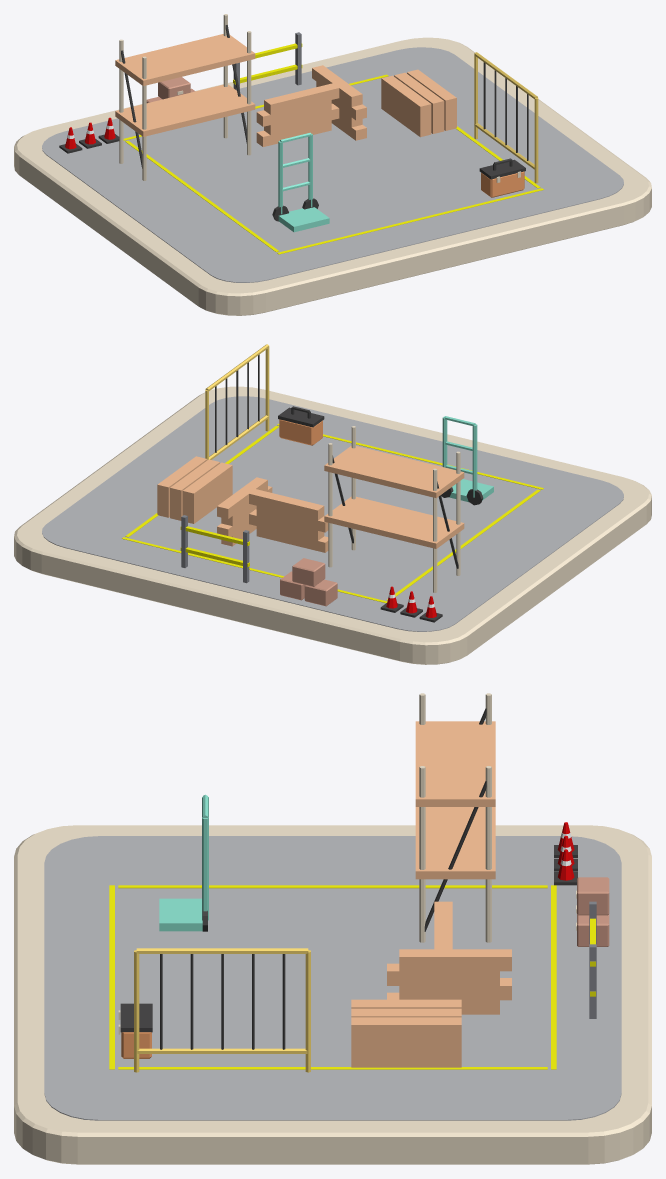
Rendered from room.fbx.
3 views of the same model, one above another, from view 1: azimuth 30°, elevation 25°; view 2: azimuth 150°, elevation 25°; view 3: azimuth 270°, elevation 25° (orthographic). The views are drawn at different scales.
Parts seen in each view (by area): view 1: COM-02 Floor Surface, COM-01 Rounded Base Direct, Platform.001, Platform, Timber.006, Loading plate, Box, Work zone end, Timber.007, Timber.008, Work zone stripe, Upright.002 (+6 smaller); view 2: COM-02 Floor Surface, COM-01 Rounded Base Direct, Platform.001, Platform, Timber.006, Box, Stacked case.002, Stacked case, Timber.007, Timber.008, Work zone stripe, Work zone end.001 (+9 smaller); view 3: COM-02 Floor Surface, COM-01 Rounded Base Direct, Platform.001, Platform, Timber.008, Timber.005, Work zone stripe, Timber.002, Loading plate, Work zone stripe.001, Stacked case.002, Timber.006 (+15 smaller).
Boxes of the visible parts, box(x1,y1,x2,y2) form: COM-02 Floor Surface: box(42, 47, 623, 282); COM-01 Rounded Base Direct: box(14, 37, 651, 315); Platform.001: box(115, 34, 255, 85); Platform: box(115, 84, 255, 136); Timber.006: box(381, 75, 431, 116); Loading plate: box(278, 207, 329, 232); Box: box(481, 171, 524, 197); Work zone end: box(277, 188, 543, 254); Timber.007: box(394, 72, 444, 113); Timber.008: box(407, 69, 456, 110); Work zone stripe: box(125, 140, 279, 252); Upright.002: box(247, 31, 251, 155); COM-02 Floor Surface: box(42, 396, 623, 631); COM-01 Rounded Base Direct: box(14, 386, 651, 664); Platform.001: box(324, 446, 464, 498); Platform: box(324, 496, 464, 548); Timber.006: box(182, 462, 232, 503); Box: box(279, 419, 322, 445); Stacked case.002: box(292, 558, 325, 586); Stacked case: box(304, 579, 337, 606); Timber.007: box(170, 459, 219, 500); Timber.008: box(157, 456, 207, 497); Work zone stripe: box(387, 489, 540, 600); Work zone end.001: box(122, 537, 387, 603); COM-02 Floor Surface: box(44, 836, 621, 1120); COM-01 Rounded Base Direct: box(14, 825, 651, 1164); Platform.001: box(415, 721, 495, 806); Platform: box(415, 807, 495, 879); Timber.008: box(351, 1017, 461, 1039); Timber.005: box(351, 1039, 461, 1053); Work zone stripe: box(118, 885, 547, 888); Timber.002: box(351, 1054, 461, 1067); Loading plate: box(159, 898, 202, 931); Work zone stripe.001: box(118, 1067, 547, 1069); Stacked case.002: box(577, 877, 609, 915); Timber.006: box(351, 999, 461, 1008).
Size of the model in its own units: 600 by 187 by 520.
